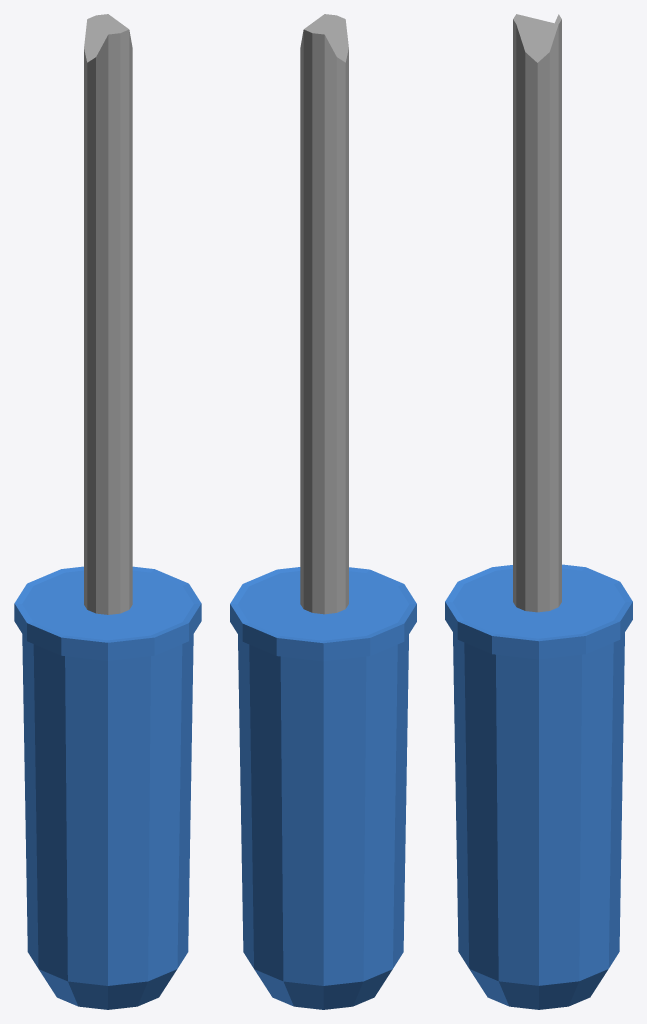
The model's file is Destornillador_Azul.fbx.
The picture shows the model from 3 angles, left to right: view 1: azimuth 30°, elevation 25°; view 2: azimuth 150°, elevation 25°; view 3: azimuth 270°, elevation 25°; orthographic projection.
Visible parts, largest first — view 1: Mango, Vastago; view 2: Mango, Vastago; view 3: Mango, Vastago.
Boxes of the visible parts, left/top/right/bottom form: Mango: left=14, top=566, right=201, bottom=1009; Vastago: left=84, top=14, right=132, bottom=614; Mango: left=230, top=567, right=416, bottom=1009; Vastago: left=300, top=14, right=348, bottom=614; Mango: left=445, top=564, right=632, bottom=1009; Vastago: left=513, top=14, right=561, bottom=612.
Bounding box in the file's own units: 143 × 810 × 143.
